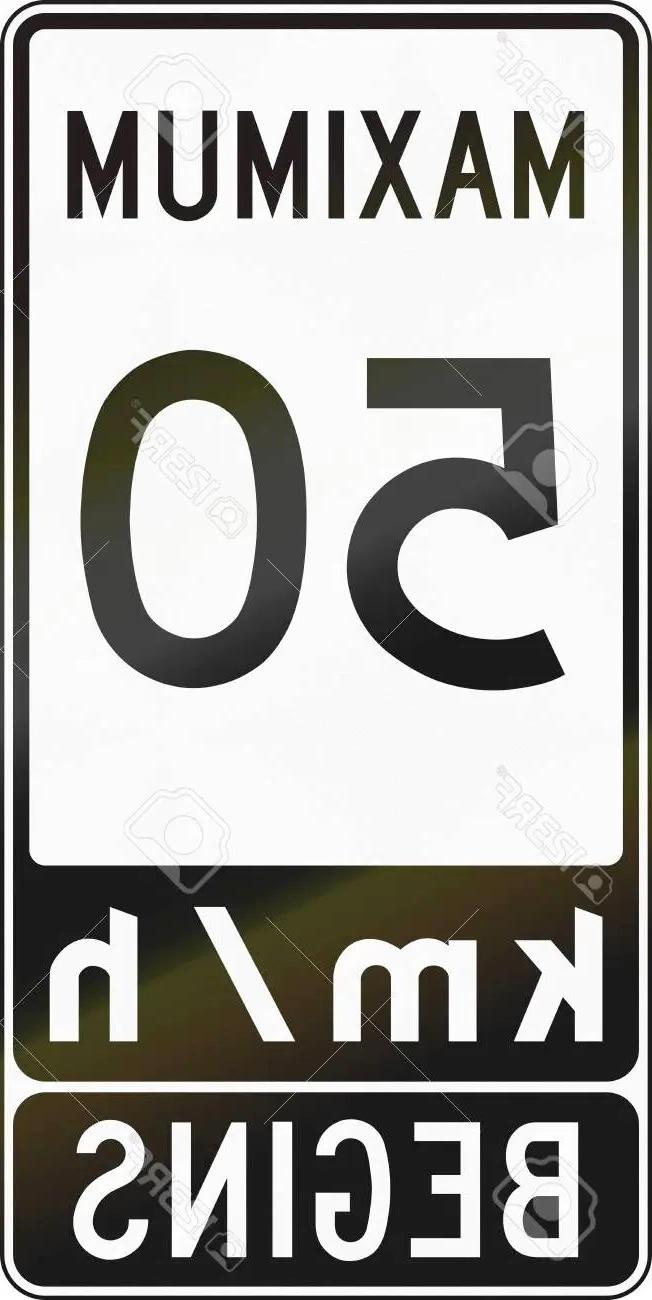speed limit sign: (5, 7, 646, 1092)
